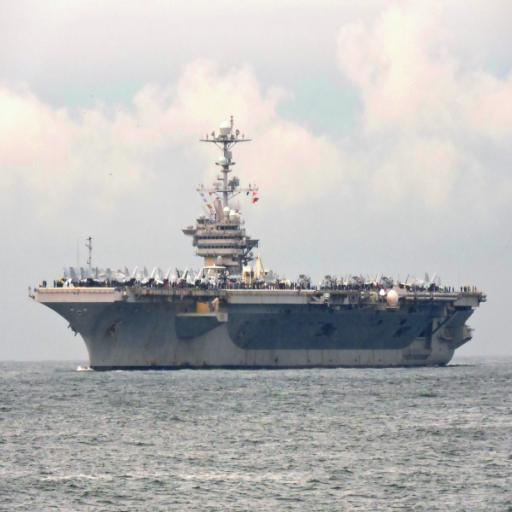Portanaves: (26, 116, 492, 381)
